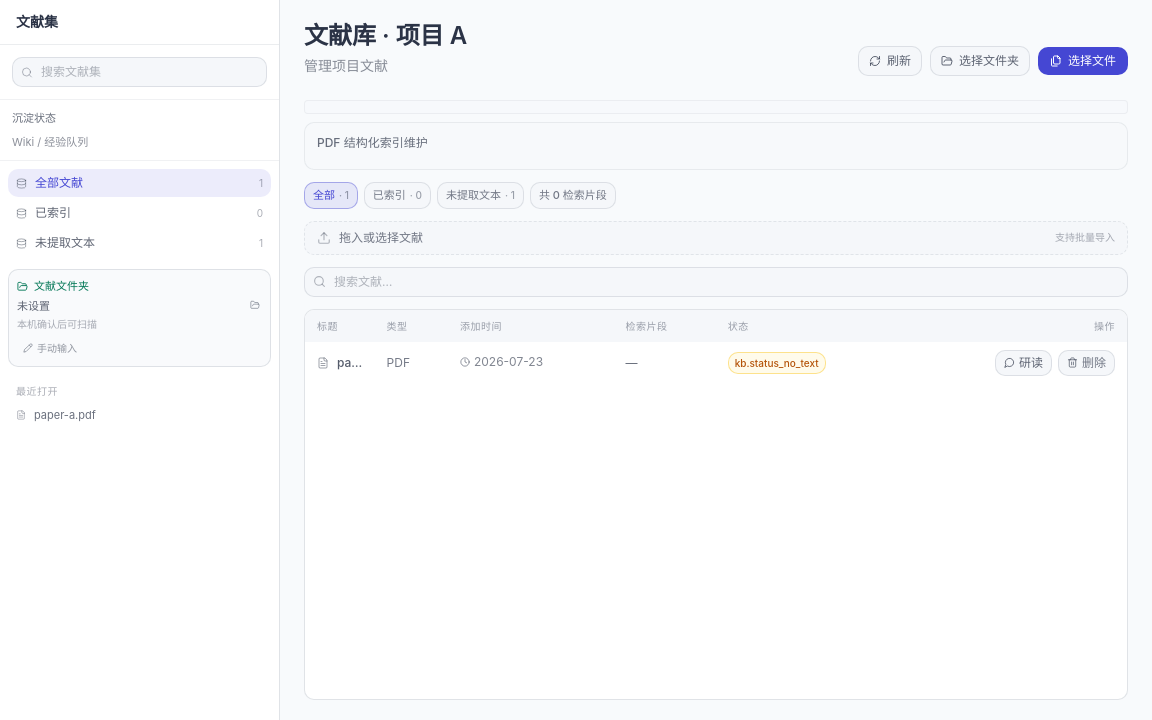
Scenario: KnowledgeBase refresh UX › keeps the last material snapshot and shows a retryable safe error after refresh failure
Check: the text "paper-a.pdf" is shown, box [337,354,405,370]
Step 1. Click the button "刷新" → click(890, 61), box [858,46,922,76]
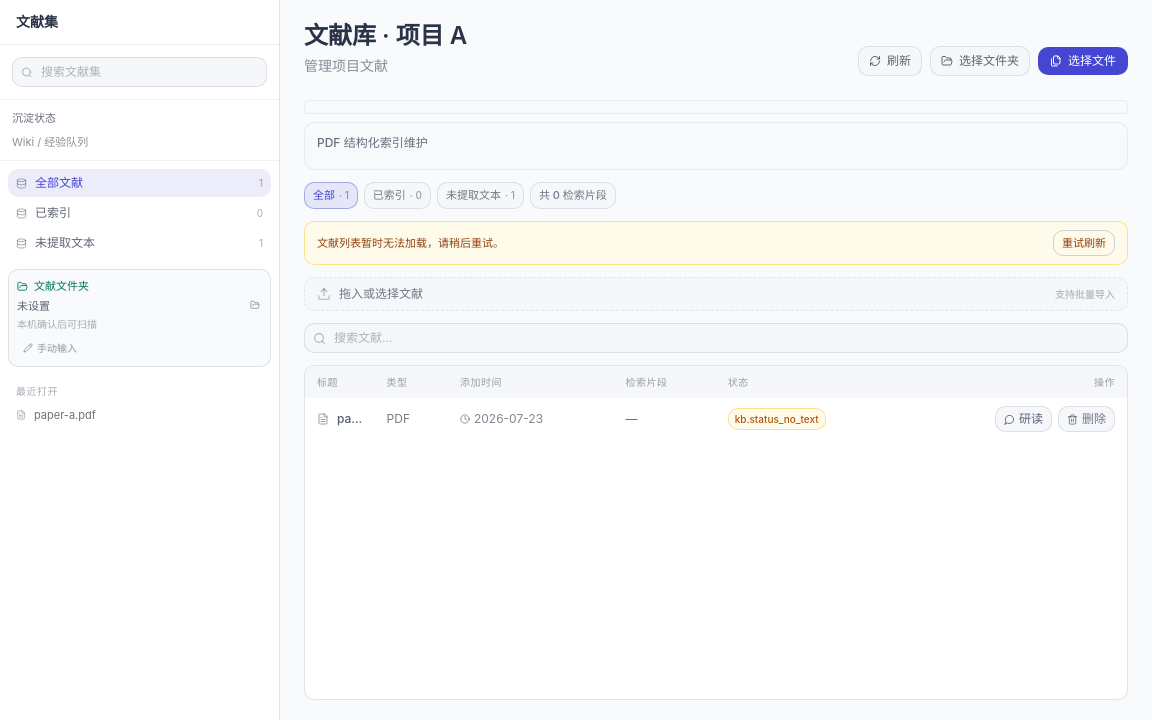
Check: the message shows "文献列表暂时无法加载，请稍后重试。", box [317,236,504,250]
